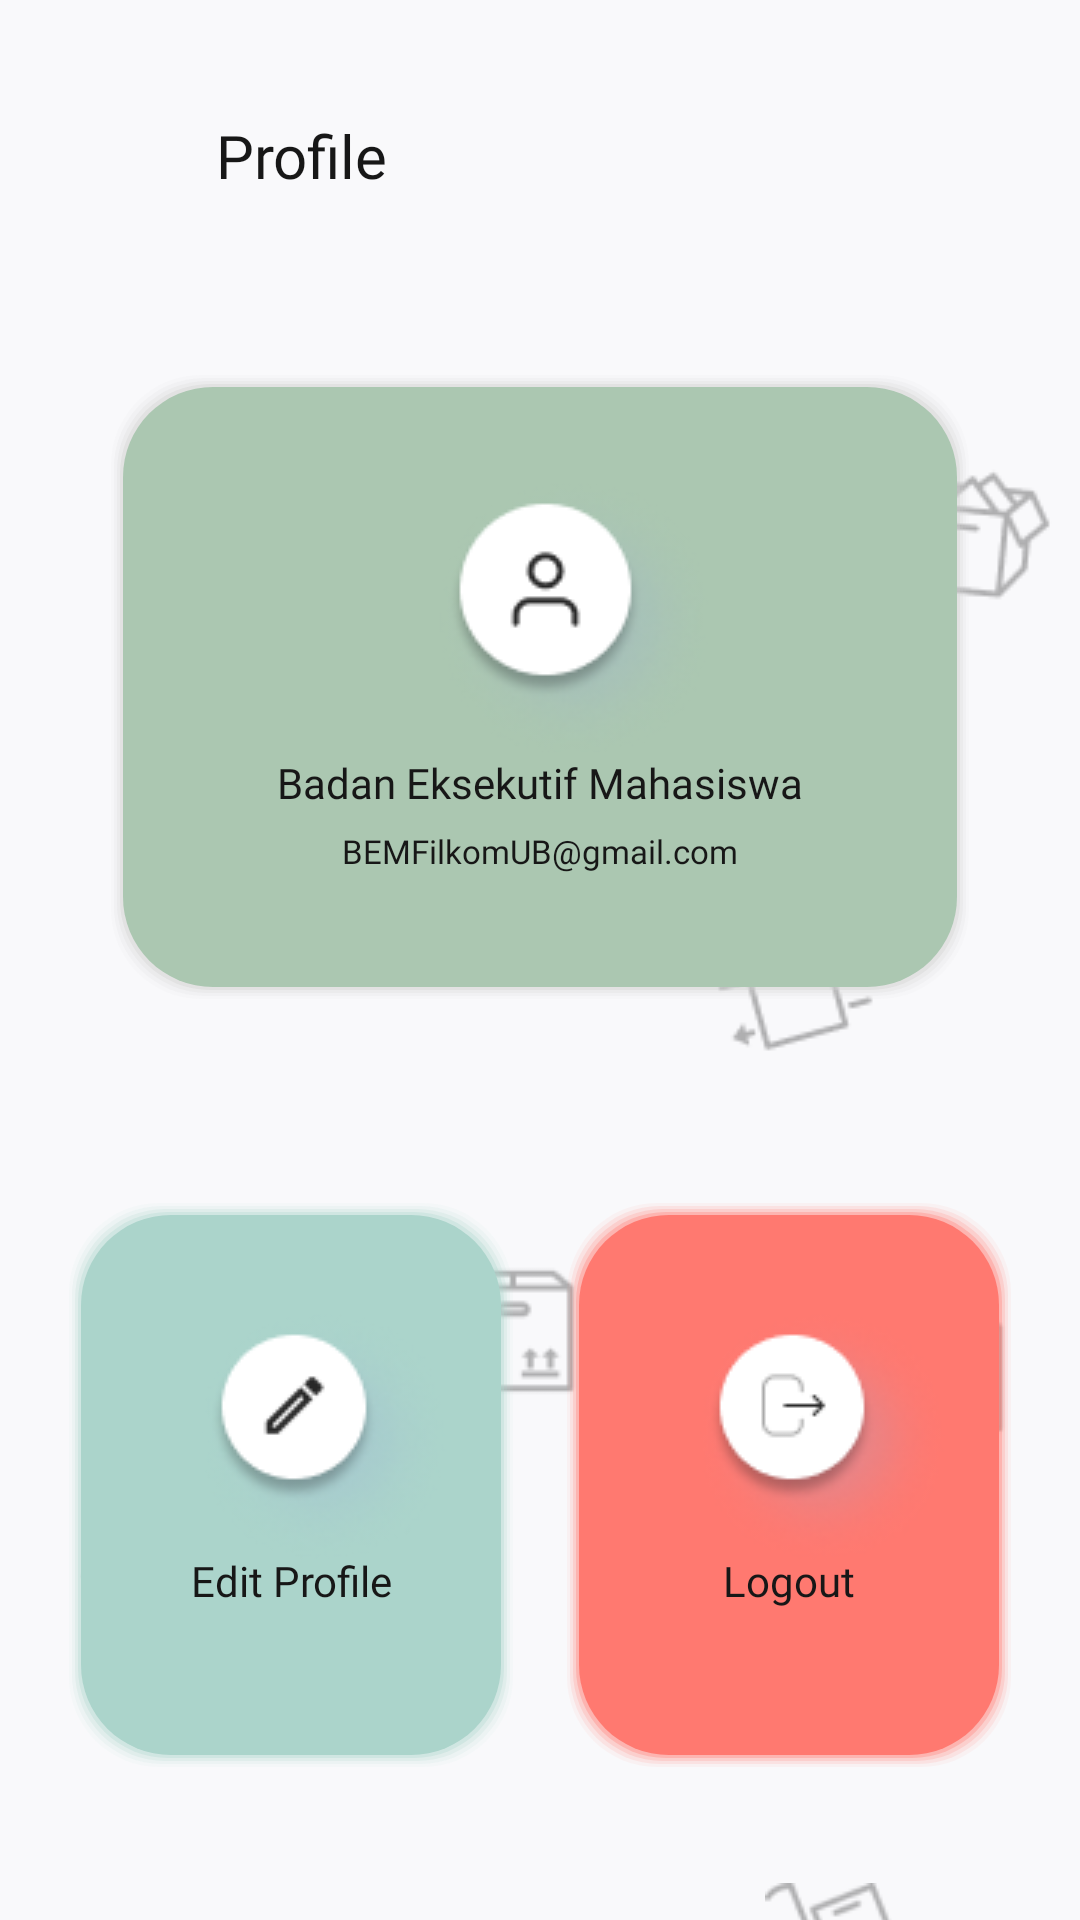

Where to tap for icons on this 1080px x 1920px app screen, as [x,y]:
profile bulet: [546,595]
